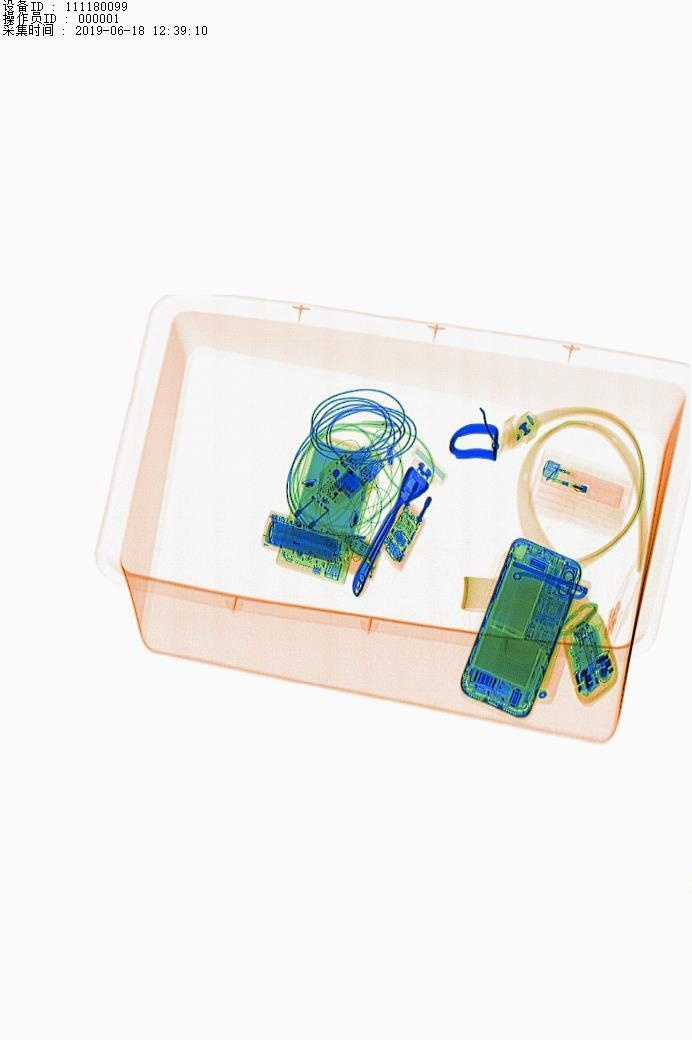NonmetallicFire: (528, 460, 639, 527)
